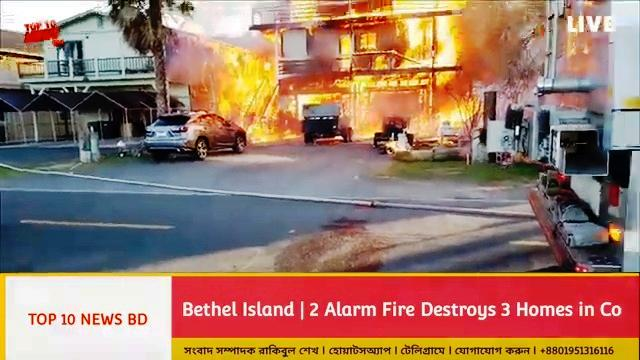fire: (217, 39, 282, 117), (398, 0, 454, 69)
